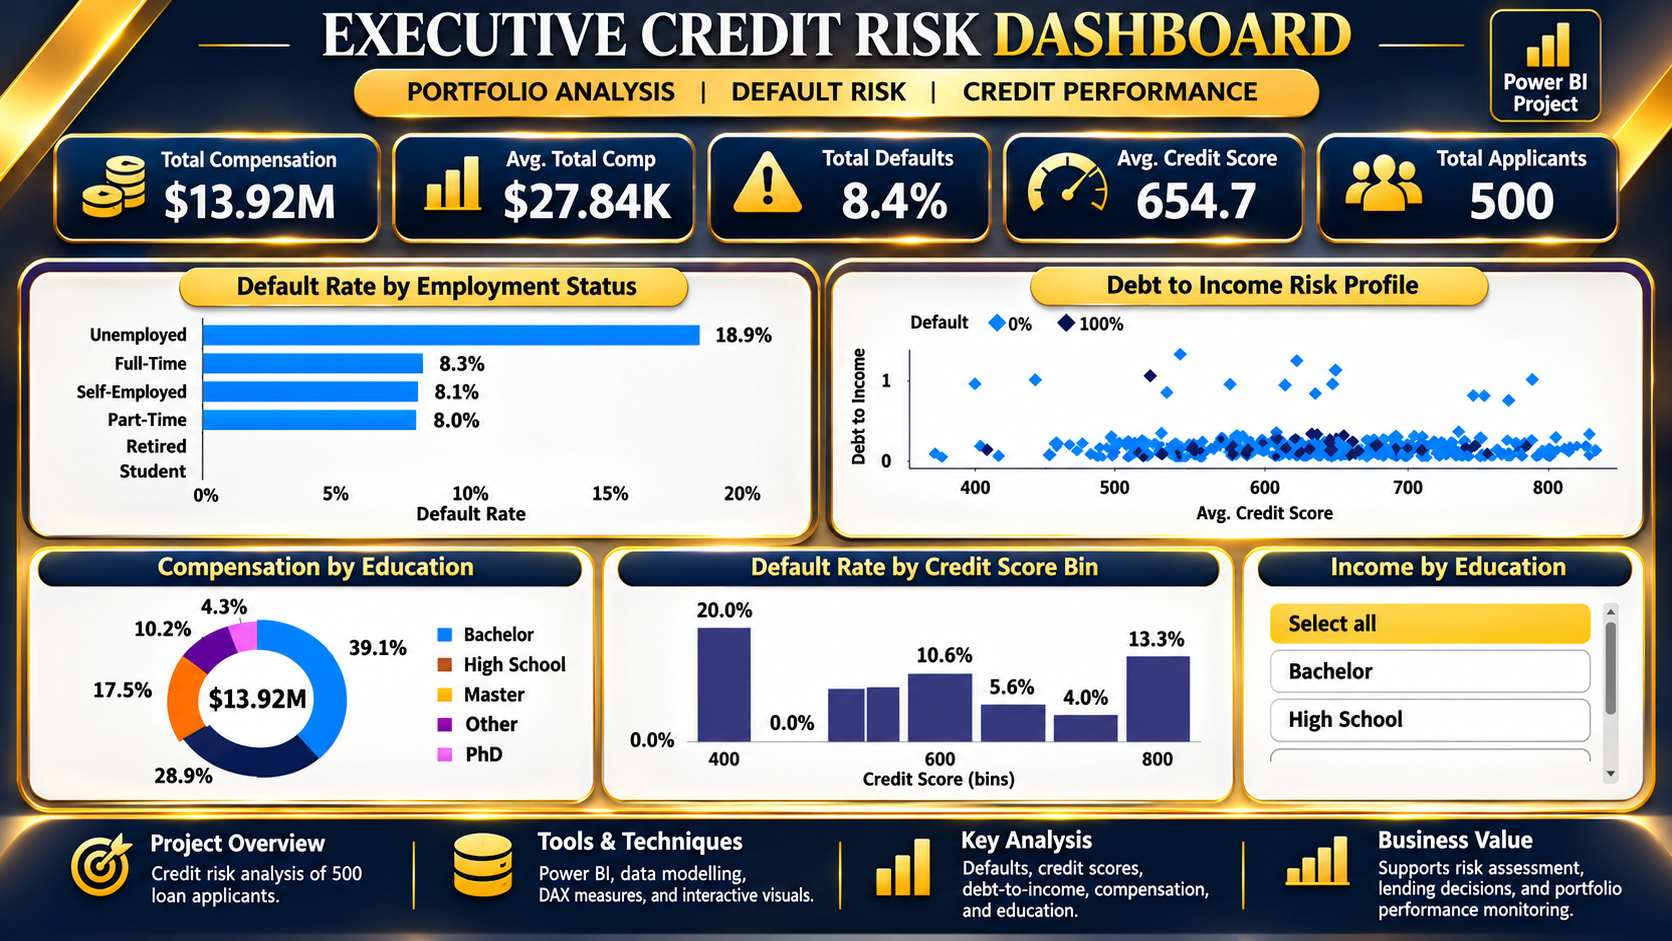

What the dashboard file says about the page in this screenshot:
{"tool":"powerbi","page":{"name":"Credit Risk Performance Dashboard","canvas":[1280,720],"ordinal":0},"visuals":[{"type":"cardVisual","fields":{"Data":["Sum(Refined_Credit_Risk_Dataset.Total_Compensation)"]},"box":[35.4,104.9,228.2,114.8],"z":0},{"type":"cardVisual","fields":{"Data":["Avg(Refined_Credit_Risk_Dataset.Total_Compensation)"]},"box":[296.2,104.9,211.2,114.8],"z":1000},{"type":"cardVisual","fields":{"Data":["Refined_Credit_Risk_Dataset.Default Rate"]},"box":[540,106.3,218.3,113.4],"z":2000},{"type":"cardVisual","fields":{"Data":["Refined_Credit_Risk_Dataset.Avg Credit Score"]},"box":[789.4,104.9,221.1,114.8],"z":3000},{"type":"cardVisual","fields":{"Data":["CountNonNull(Refined_Credit_Risk_Dataset.Age)"]},"box":[1043.1,106.3,215.4,113.4],"z":4000},{"type":"textbox","box":[295.2,18.7,655.2,63.4],"z":5000},{"type":"clusteredBarChart","title":"Default Rate by Employment Status","fields":{"Category":["Refined_Credit_Risk_Dataset.Employment"],"Y":["Refined_Credit_Risk_Dataset.Default Rate"]},"box":[35.4,245.2,605.2,215.4],"z":6000},{"type":"scatterChart","title":"Debt to Income Risk Profile","fields":{"Series":["Refined_Credit_Risk_Dataset.Default"],"X":["Refined_Credit_Risk_Dataset.Credit_Score"],"Y":["Refined_Credit_Risk_Dataset.Debit_to_Income"]},"box":[659.1,245.2,599.5,215.4],"z":7000},{"type":"donutChart","title":"Compensation by Education","fields":{"Category":["Refined_Credit_Risk_Dataset.Education"],"Y":["Sum(Refined_Credit_Risk_Dataset.Total_Compensation)"]},"box":[35.4,481.9,472,218.3],"z":8000},{"type":"clusteredColumnChart","title":"Default Rate by Credit Score Bin","fields":{"Category":["Refined_Credit_Risk_Dataset.Credit_Score (bins)"],"Y":["Refined_Credit_Risk_Dataset.Default Rate"]},"box":[523,481.9,411,218.3],"z":9000},{"type":"advancedSlicerVisual","title":"Income by Education","fields":{"Label":["Sum(Refined_Credit_Risk_Dataset.Income)"],"Values":["Refined_Credit_Risk_Dataset.Education"]},"box":[949.6,481.9,309,218.3],"z":10000}]}

Visuals, with their boxes in screenshot pixels (x1, y1, x2, y2), scaled from the page's 1280x720 canvas onto the 1672x941 screenshot:
cardVisual - Sum(Refined_Credit_Risk_Dataset.Total_Compensation): [x1=46, y1=137, x2=344, y2=287]
cardVisual - Avg(Refined_Credit_Risk_Dataset.Total_Compensation): [x1=387, y1=137, x2=663, y2=287]
cardVisual - Refined_Credit_Risk_Dataset.Default Rate: [x1=705, y1=139, x2=991, y2=287]
cardVisual - Refined_Credit_Risk_Dataset.Avg Credit Score: [x1=1031, y1=137, x2=1320, y2=287]
cardVisual - CountNonNull(Refined_Credit_Risk_Dataset.Age): [x1=1363, y1=139, x2=1644, y2=287]
textbox: [x1=386, y1=24, x2=1241, y2=107]
"Default Rate by Employment Status" clusteredBarChart: [x1=46, y1=320, x2=837, y2=602]
"Debt to Income Risk Profile" scatterChart: [x1=861, y1=320, x2=1644, y2=602]
"Compensation by Education" donutChart: [x1=46, y1=630, x2=663, y2=915]
"Default Rate by Credit Score Bin" clusteredColumnChart: [x1=683, y1=630, x2=1220, y2=915]
"Income by Education" advancedSlicerVisual: [x1=1240, y1=630, x2=1644, y2=915]
